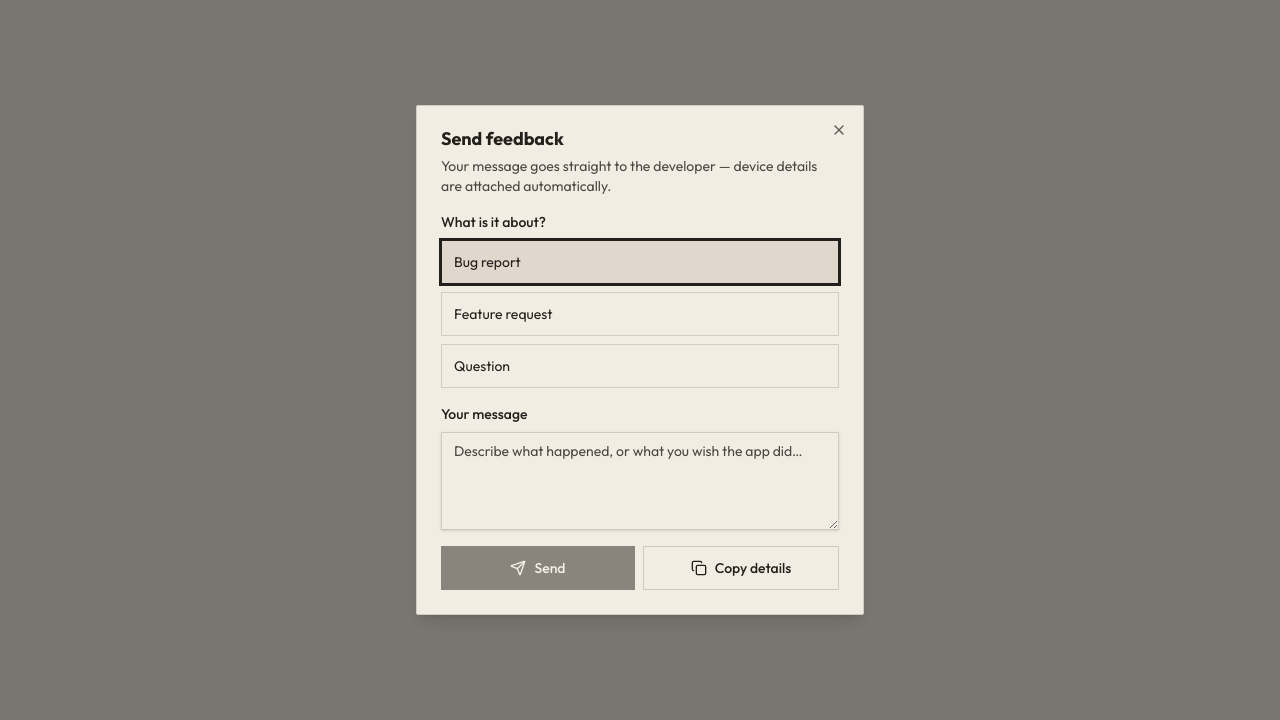
Test case: FeedbackDialog (HML-44) › disables Send until a message is typed
Expected: the button "Send" is disabled, [441,546,635,590]
Type "hi" into the text box labelled "Your message" at (640, 481), box [441,432,839,530]
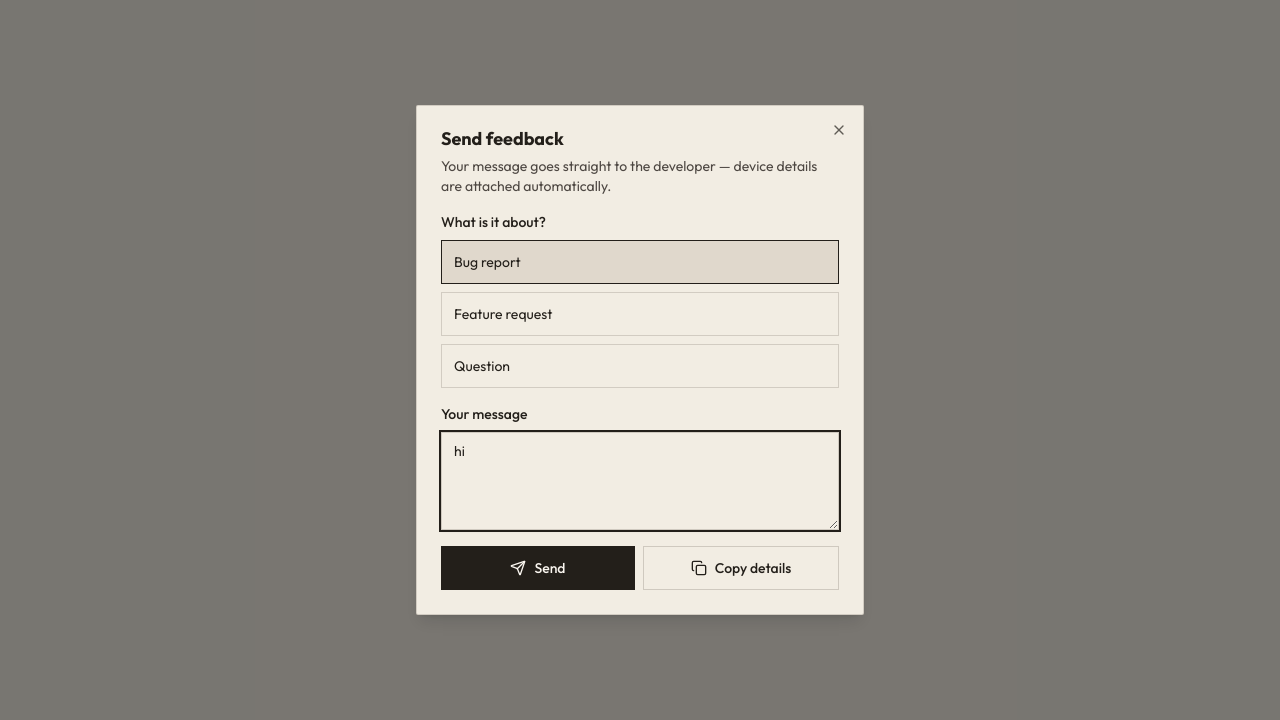
Expected: the button "Send" is enabled, [441,546,635,590]
